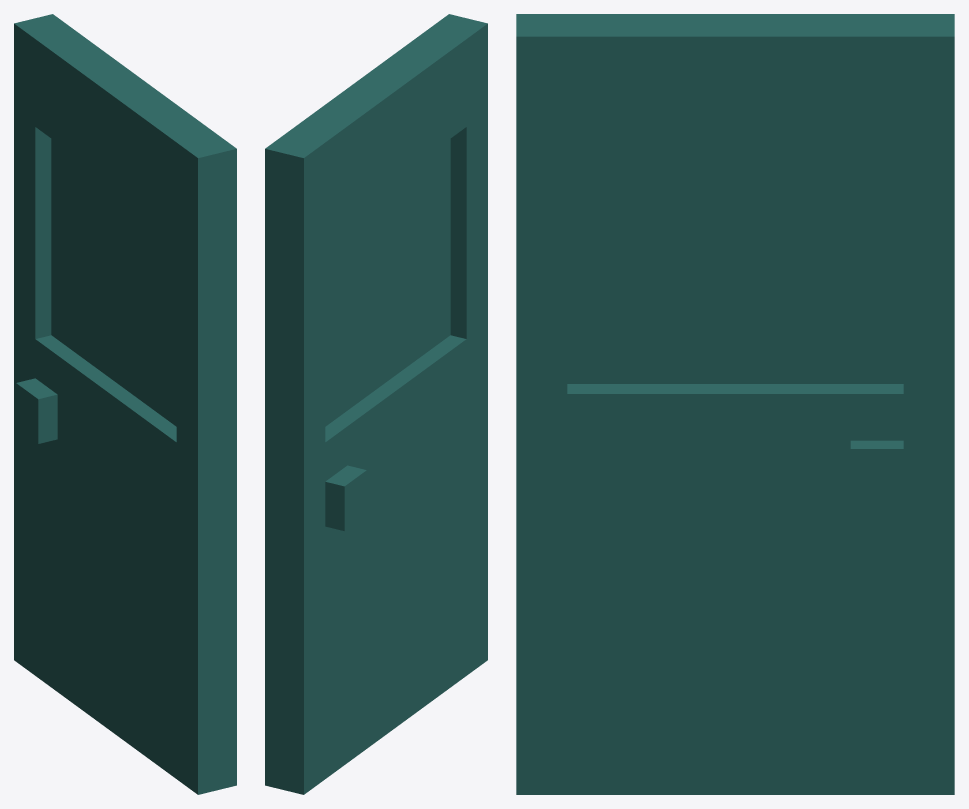
File: Tür_mit_Pivot.fbx
The picture shows the model from 3 angles, left to right: view 1: azimuth 30°, elevation 25°; view 2: azimuth 150°, elevation 25°; view 3: azimuth 270°, elevation 25°; orthographic projection. The views are drawn at different scales.
Visible parts, largest first — view 1: Tür; view 2: Tür; view 3: Tür.
Boxes of the visible parts, x1,y1,x2,y2 form: Tür: (14,14,236,794); Tür: (265,14,487,794); Tür: (516,14,954,794).
Size of the model in its own units: 120 by 27.28 by 229.
